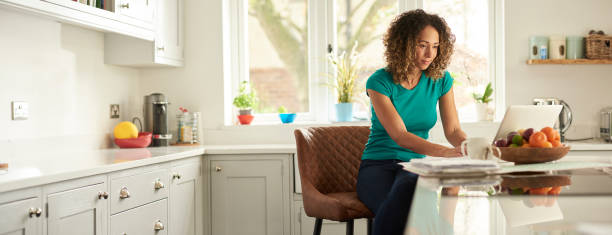without mask: (405, 19, 462, 76)
